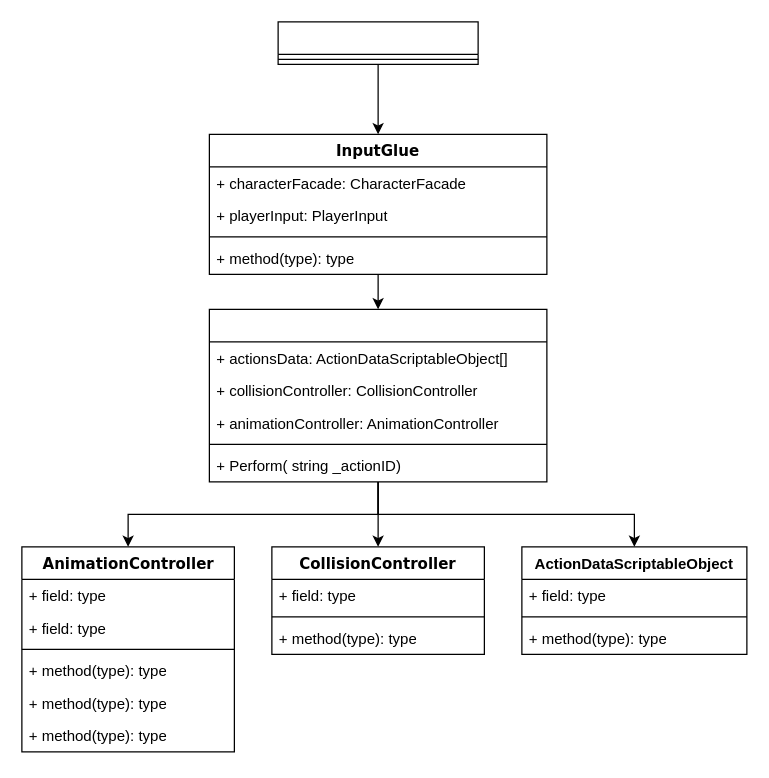
Image size: 769x778. Some labels were removed from this diagram. The box of each missing label's shape, as (x1, y1, x2, y2) in pixels:
CharacterFacade: (208, 308, 547, 482)
PlayerInput: (277, 21, 478, 64)
